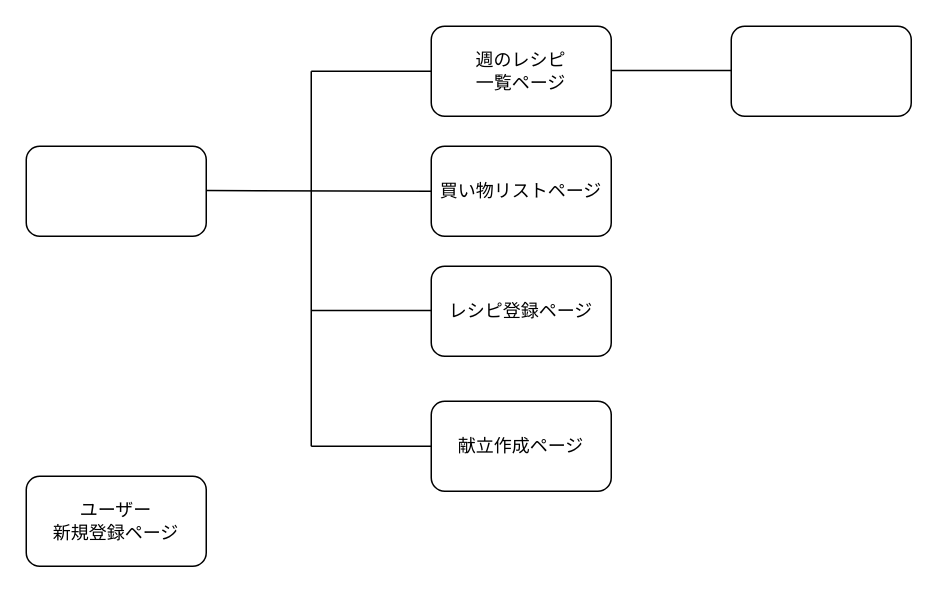
Image size: 938x593. Some labels were removed from this diagram. Here are the shapes that lost their labels. From the top down, the centre of each, then its label:
pixel 820 70: レシピ 詳細・編集・削除 ページ
pixel 115 190: ユーザー ログインページ
